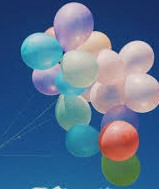Balloon: (53, 2, 95, 50), (99, 121, 138, 160), (21, 32, 61, 69), (56, 92, 92, 130), (125, 73, 159, 112), (65, 123, 100, 158), (61, 50, 96, 85), (92, 81, 126, 113), (95, 47, 126, 80)
